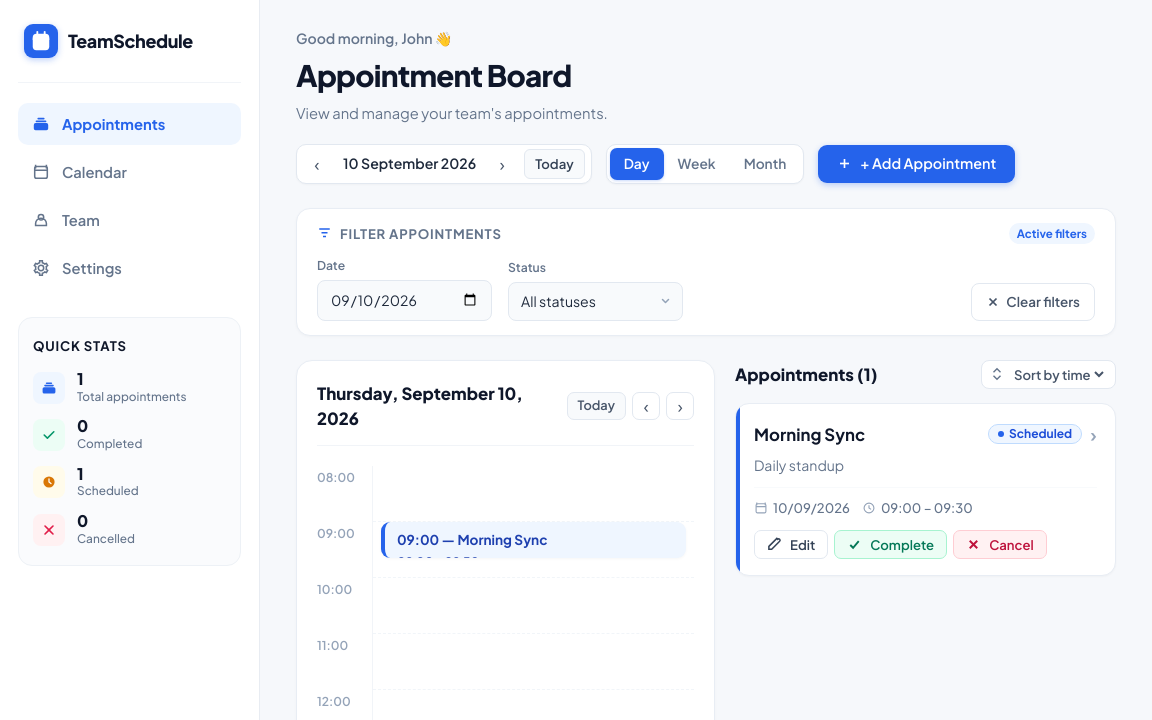
AppointmentBoard › completes an appointment using mock API
This screenshot has width=1152, height=720.
Expected: the heading "Morning Sync" is shown, [754, 422, 865, 447]
Click the button "Complete": (891, 545) [834, 530, 947, 560]
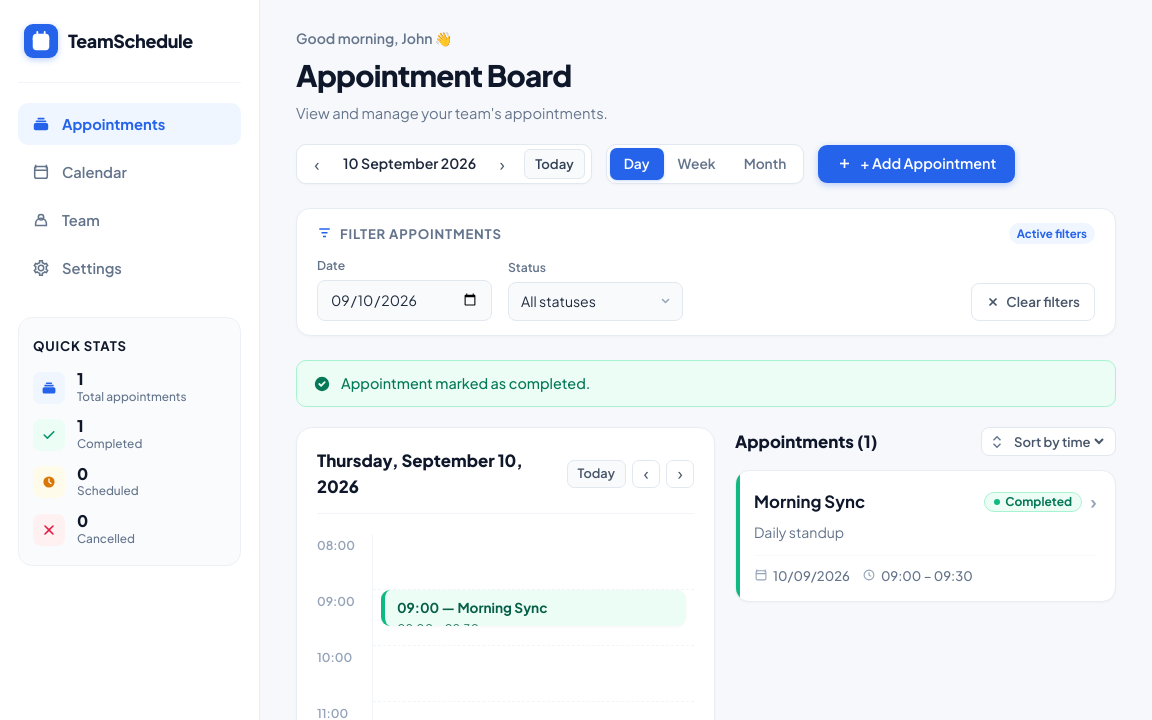
Expected: the text "Appointment marked as completed." is shown, [341, 373, 590, 394]
Expected: the text "Completed" is shown, [984, 492, 1082, 512]
